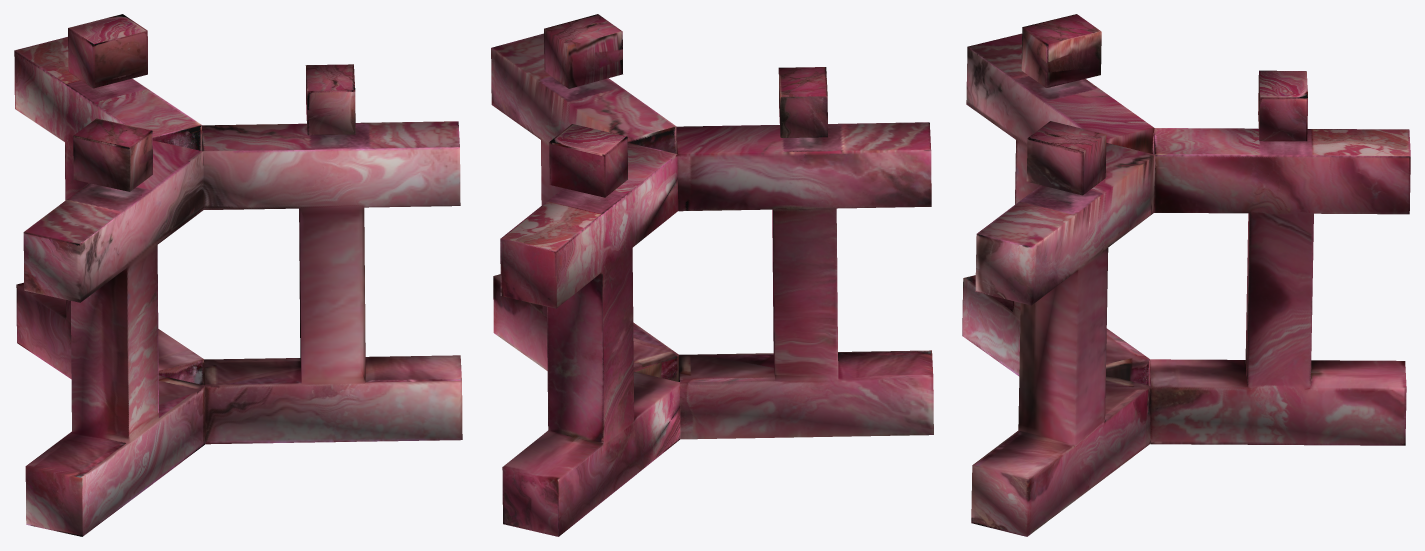
Rendered from i_harfi.fbx.
3 views of the same model, side by side, from view 1: azimuth 30°, elevation 25°; view 2: azimuth 150°, elevation 25°; view 3: azimuth 270°, elevation 25° (orthographic).
Visible parts, largest first — view 1: input; view 2: input; view 3: input.
Part boxes in pixels (x1,y1,x2,y2): input: (14,14,462,536); input: (491,14,933,536); input: (962,14,1410,536).
Bounding box in the file's own units: 200 × 154 × 177.
Materials: 1 (1 with a texture image).
